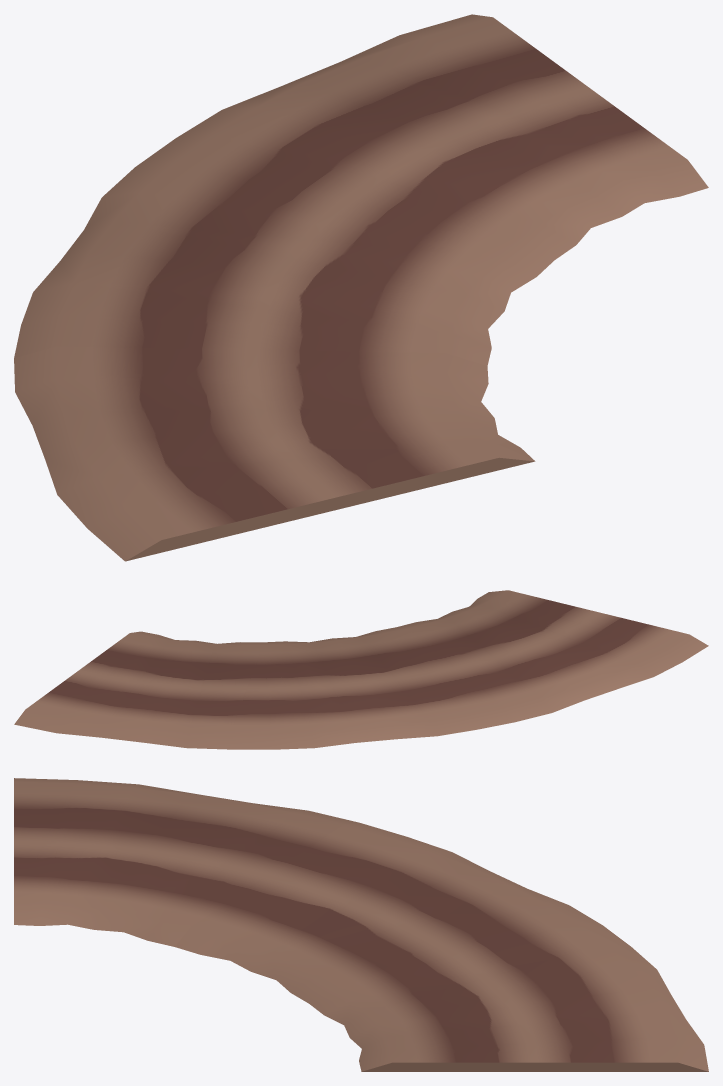
The model's file is Dirt_Road_1_Curve_1.fbx.
3 views of the same model, one above another, from view 1: azimuth 30°, elevation 25°; view 2: azimuth 150°, elevation 25°; view 3: azimuth 270°, elevation 25° (orthographic). The views are drawn at different scales.
Parts seen in each view (by area): view 1: Dirt_Road_1_Curve_1; view 2: Dirt_Road_1_Curve_1; view 3: Dirt_Road_1_Curve_1.
Boxes of the visible parts, left/top/right/bottom form: Dirt_Road_1_Curve_1: left=14, top=14, right=708, bottom=561; Dirt_Road_1_Curve_1: left=14, top=590, right=708, bottom=749; Dirt_Road_1_Curve_1: left=14, top=778, right=708, bottom=1071.
Size of the model in its own units: 12 by 0.1754 by 12.
